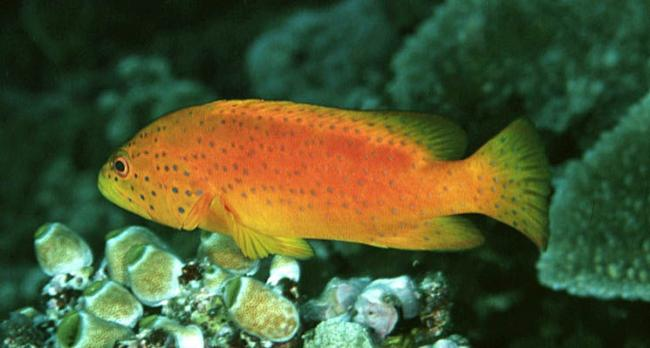fish: (97, 99, 552, 255)
